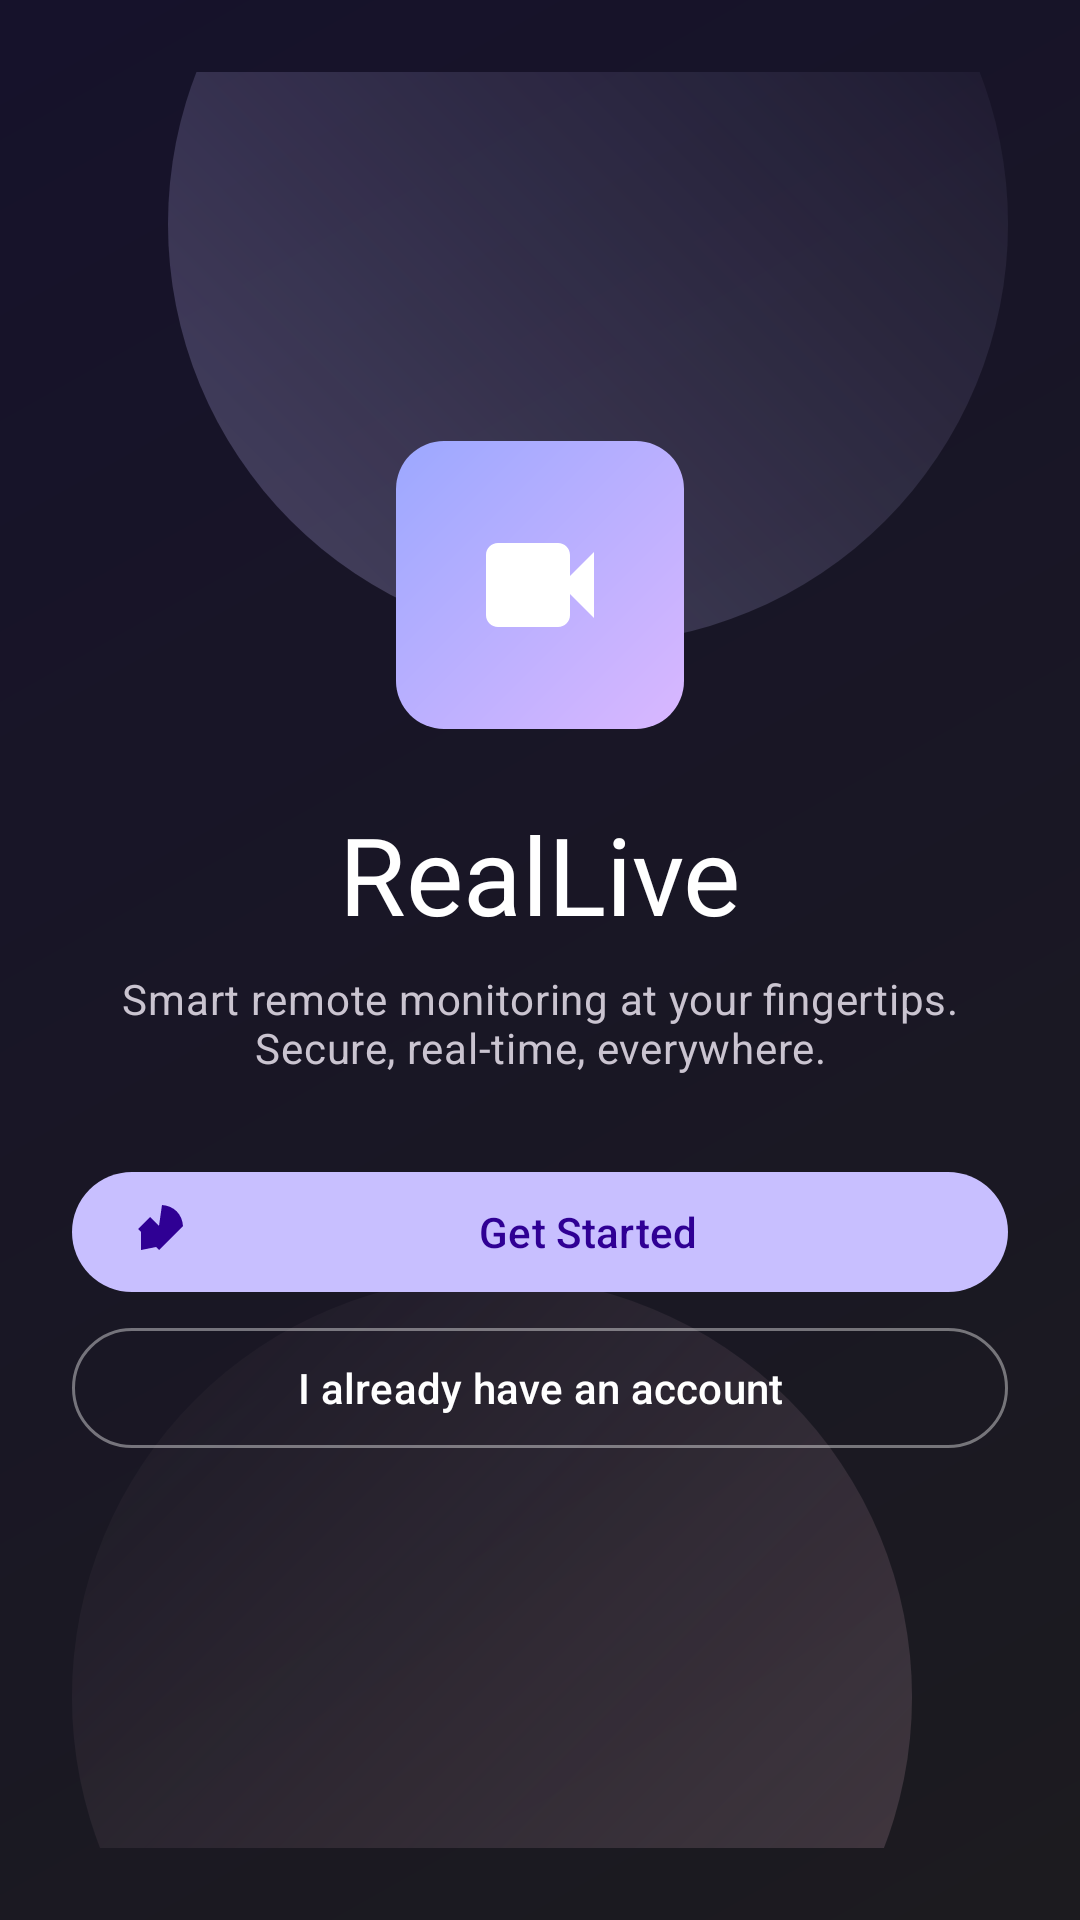

Screen size 1080w x 1920h. Icon name, then its box in pixels as (x1, y1, x2, y2):
videocam: (486, 543, 594, 627)
